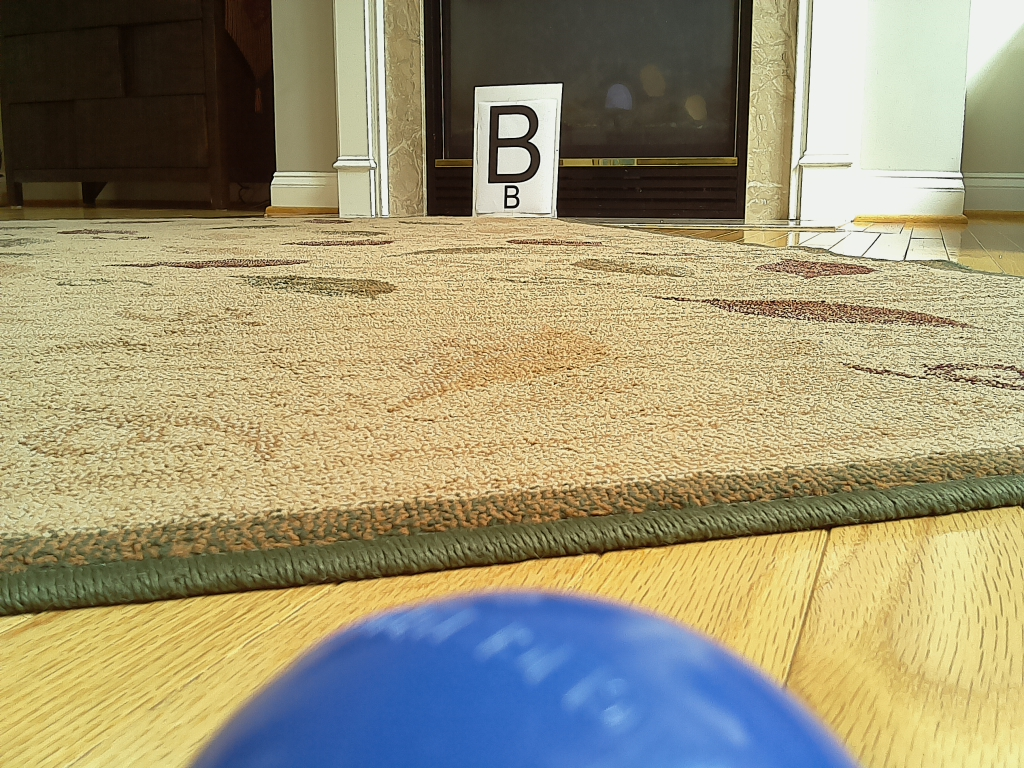letter: (487, 106, 540, 185)
